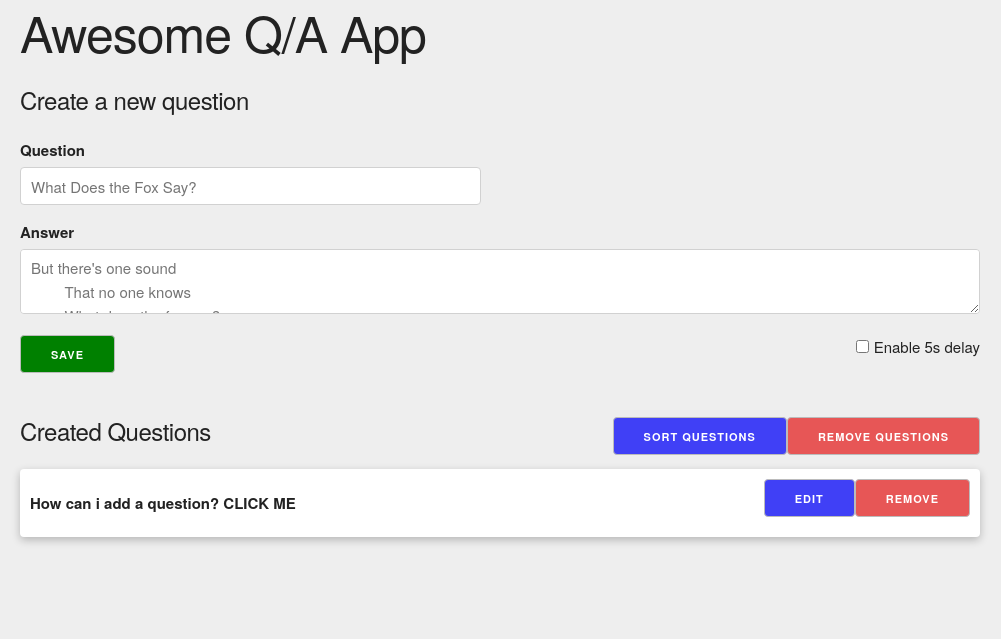
Test case: Question › Add new question
The width and height of the screenshot is (1001, 639).
In the field labelled "Question": (251, 186) [20,167,481,205], type "TEST QUESTION"
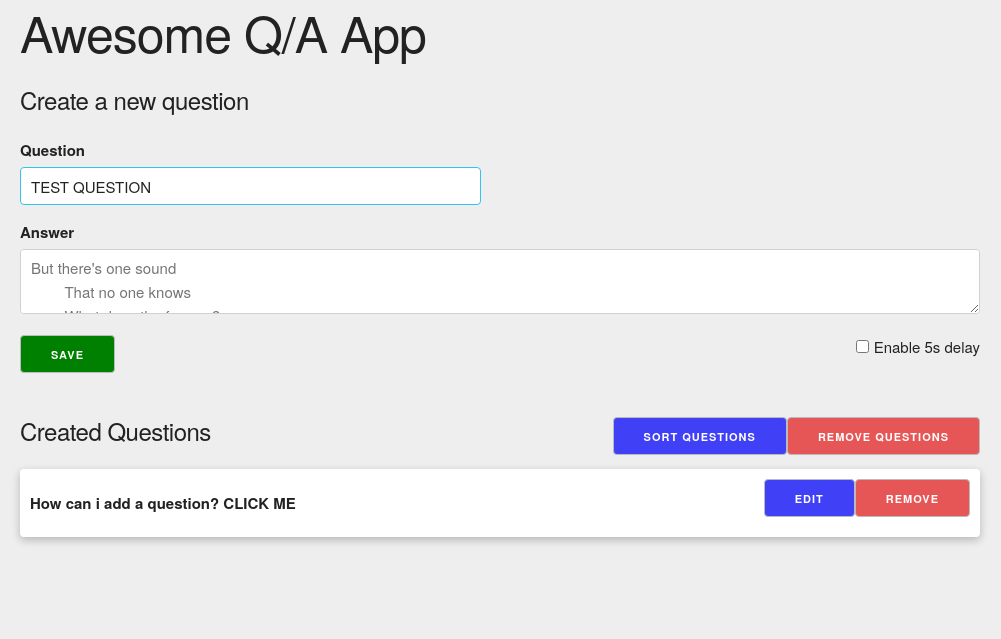
In the text box with id "answer": (500, 282) [20,249,980,314], type "TEST ANSWER"
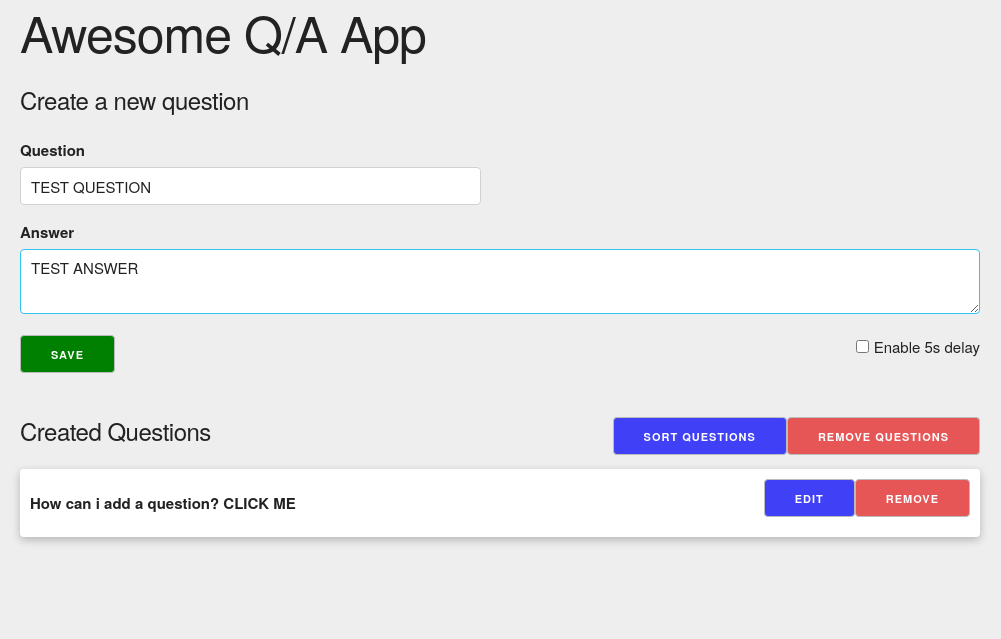
Click the button "Save": (68, 354) [20,335,115,373]
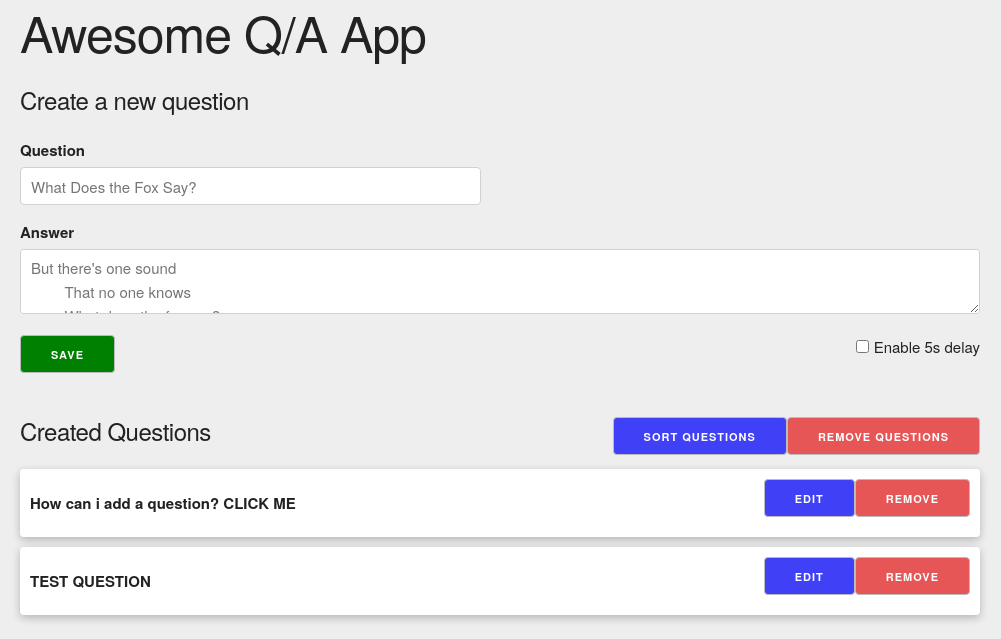
Expected: the text "TEST QUESTION" is shown
Click the text "TEST QUESTION": (91, 581) [30,570,151,592]
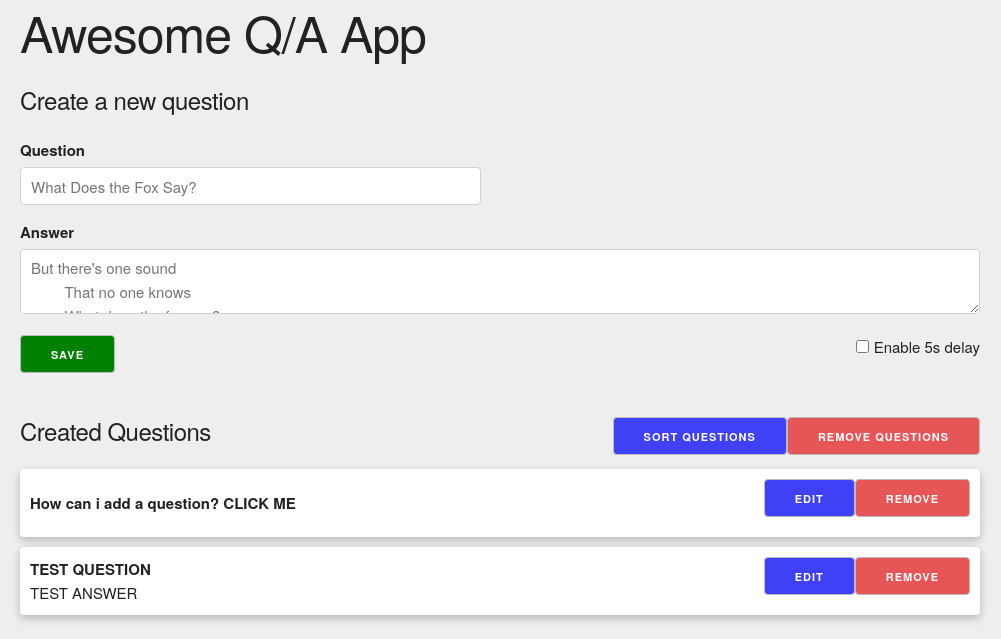
Expected: the text "TEST ANSWER" is shown, [30,581,151,605]
